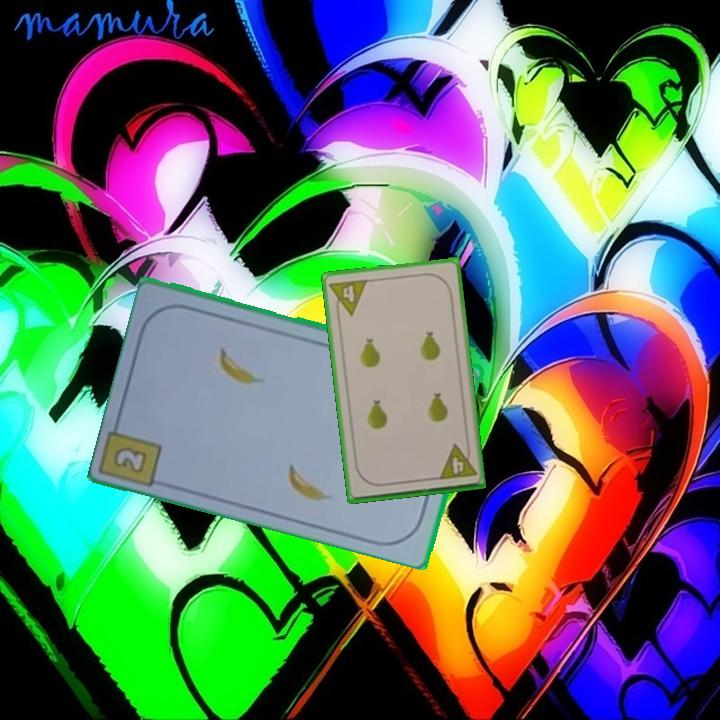2b: (113, 445, 147, 473)
4p: (326, 276, 370, 319), (435, 440, 479, 483)
